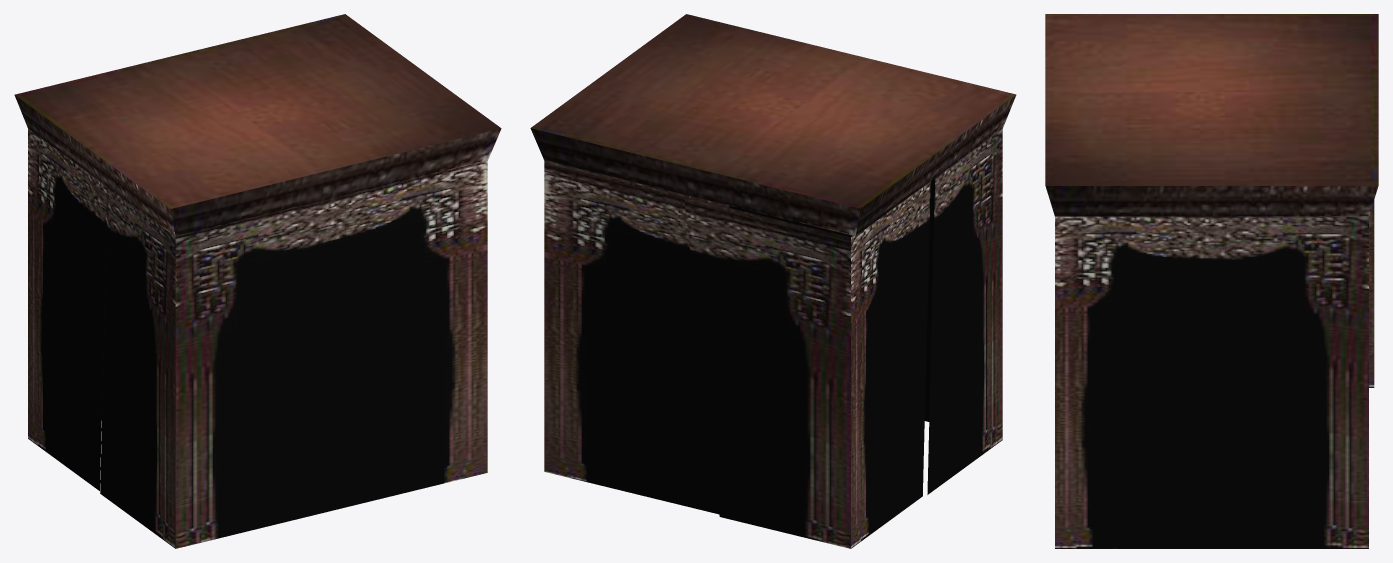
The model's file is Desk02.FBX.
The picture shows the model from 3 angles, left to right: view 1: azimuth 30°, elevation 25°; view 2: azimuth 150°, elevation 25°; view 3: azimuth 270°, elevation 25°; orthographic projection. The views are drawn at different scales.
Parts seen in each view (by area): view 1: Object03, sob78, Object02, Object01, Object04; view 2: Object04, Object05, Object02, Object01, Object03; view 3: Object05, sob78, Object01, Object02, Object04.
Part boxes in pixels (x1,y1,x2,y2): Object03: (100, 187, 328, 548); sob78: (302, 161, 487, 511); Object02: (14, 45, 303, 236); Object01: (216, 14, 501, 205); Object04: (28, 129, 107, 490); Object04: (684, 181, 930, 548); Object05: (544, 160, 719, 514); Object02: (660, 62, 1016, 236); Object01: (530, 14, 882, 195); Object03: (924, 129, 1002, 494); Object05: (1209, 216, 1368, 548); sob78: (1055, 216, 1211, 548); Object01: (1045, 83, 1378, 216); Object02: (1045, 14, 1378, 118); Object04: (1369, 200, 1374, 387).
Bounding box in the file's own units: 17.33 × 17.28 × 14.18.
Materials: 1 (1 with a texture image).
